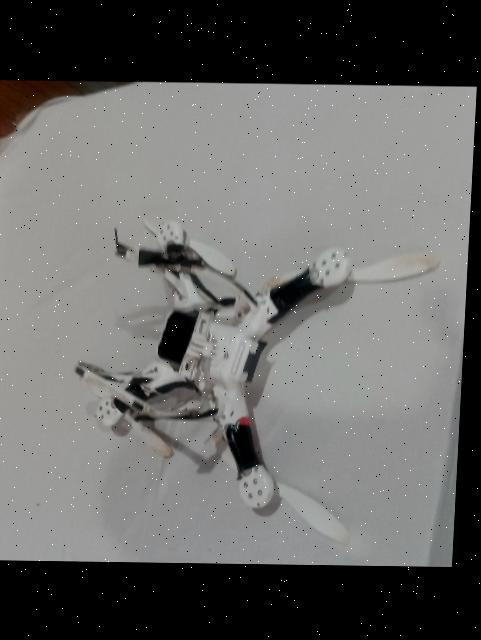drone: (67, 171, 387, 548)
